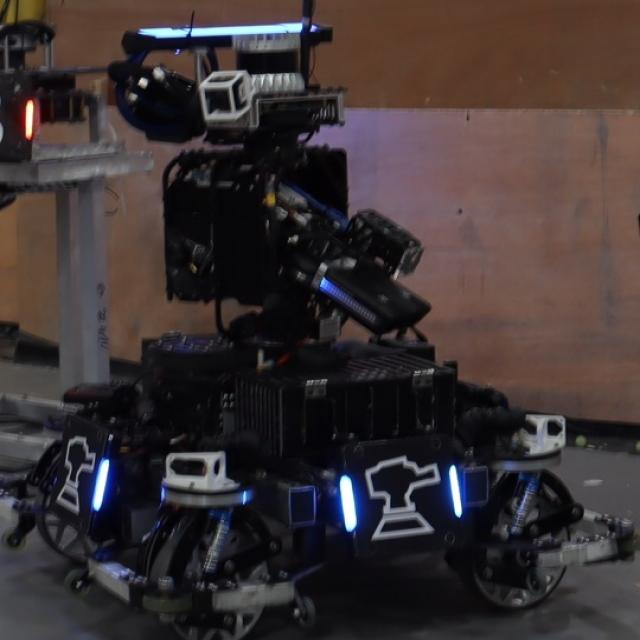Bs: (336, 453, 466, 546), (45, 427, 111, 518)
